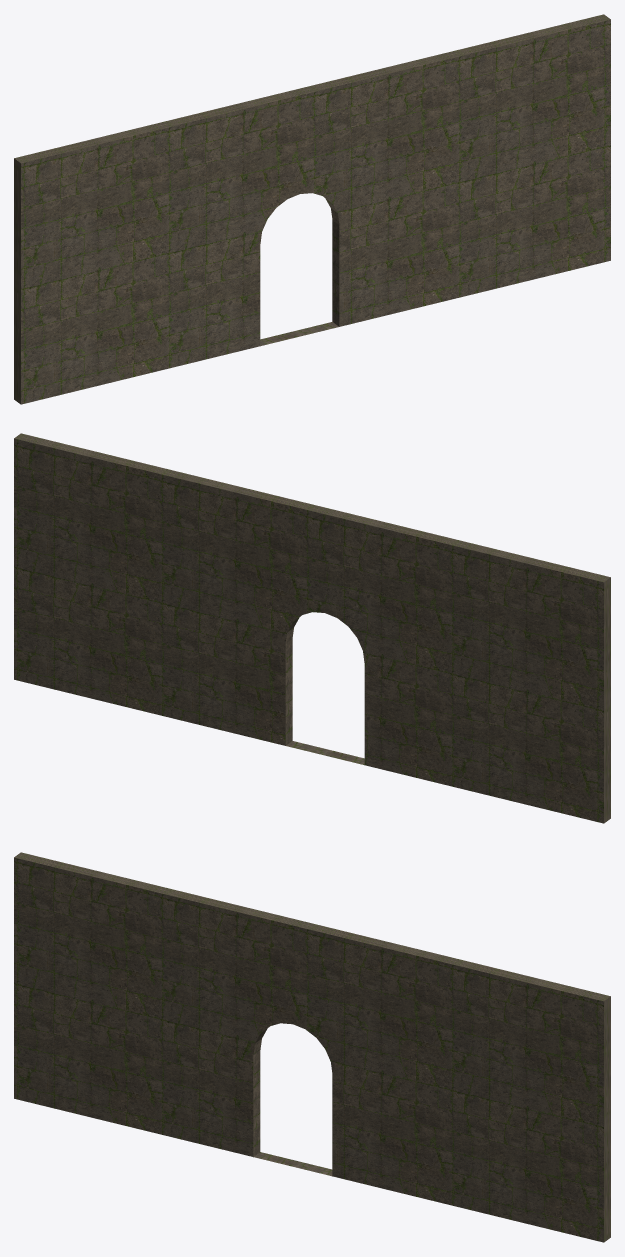
File: vault-center.fbx
The picture shows the model from 3 angles, top to bottom: view 1: azimuth 30°, elevation 25°; view 2: azimuth 150°, elevation 25°; view 3: azimuth 330°, elevation 25°; orthographic projection.
Visible parts, largest first — view 1: Куб; view 2: Куб; view 3: Куб.
Boxes of the visible parts, box(x1,y1,x2,y2) form: Куб: box(14, 14, 610, 404); Куб: box(14, 433, 610, 823); Куб: box(14, 852, 610, 1242).
Bounding box in the file's own units: 757 × 296 × 15.57.
